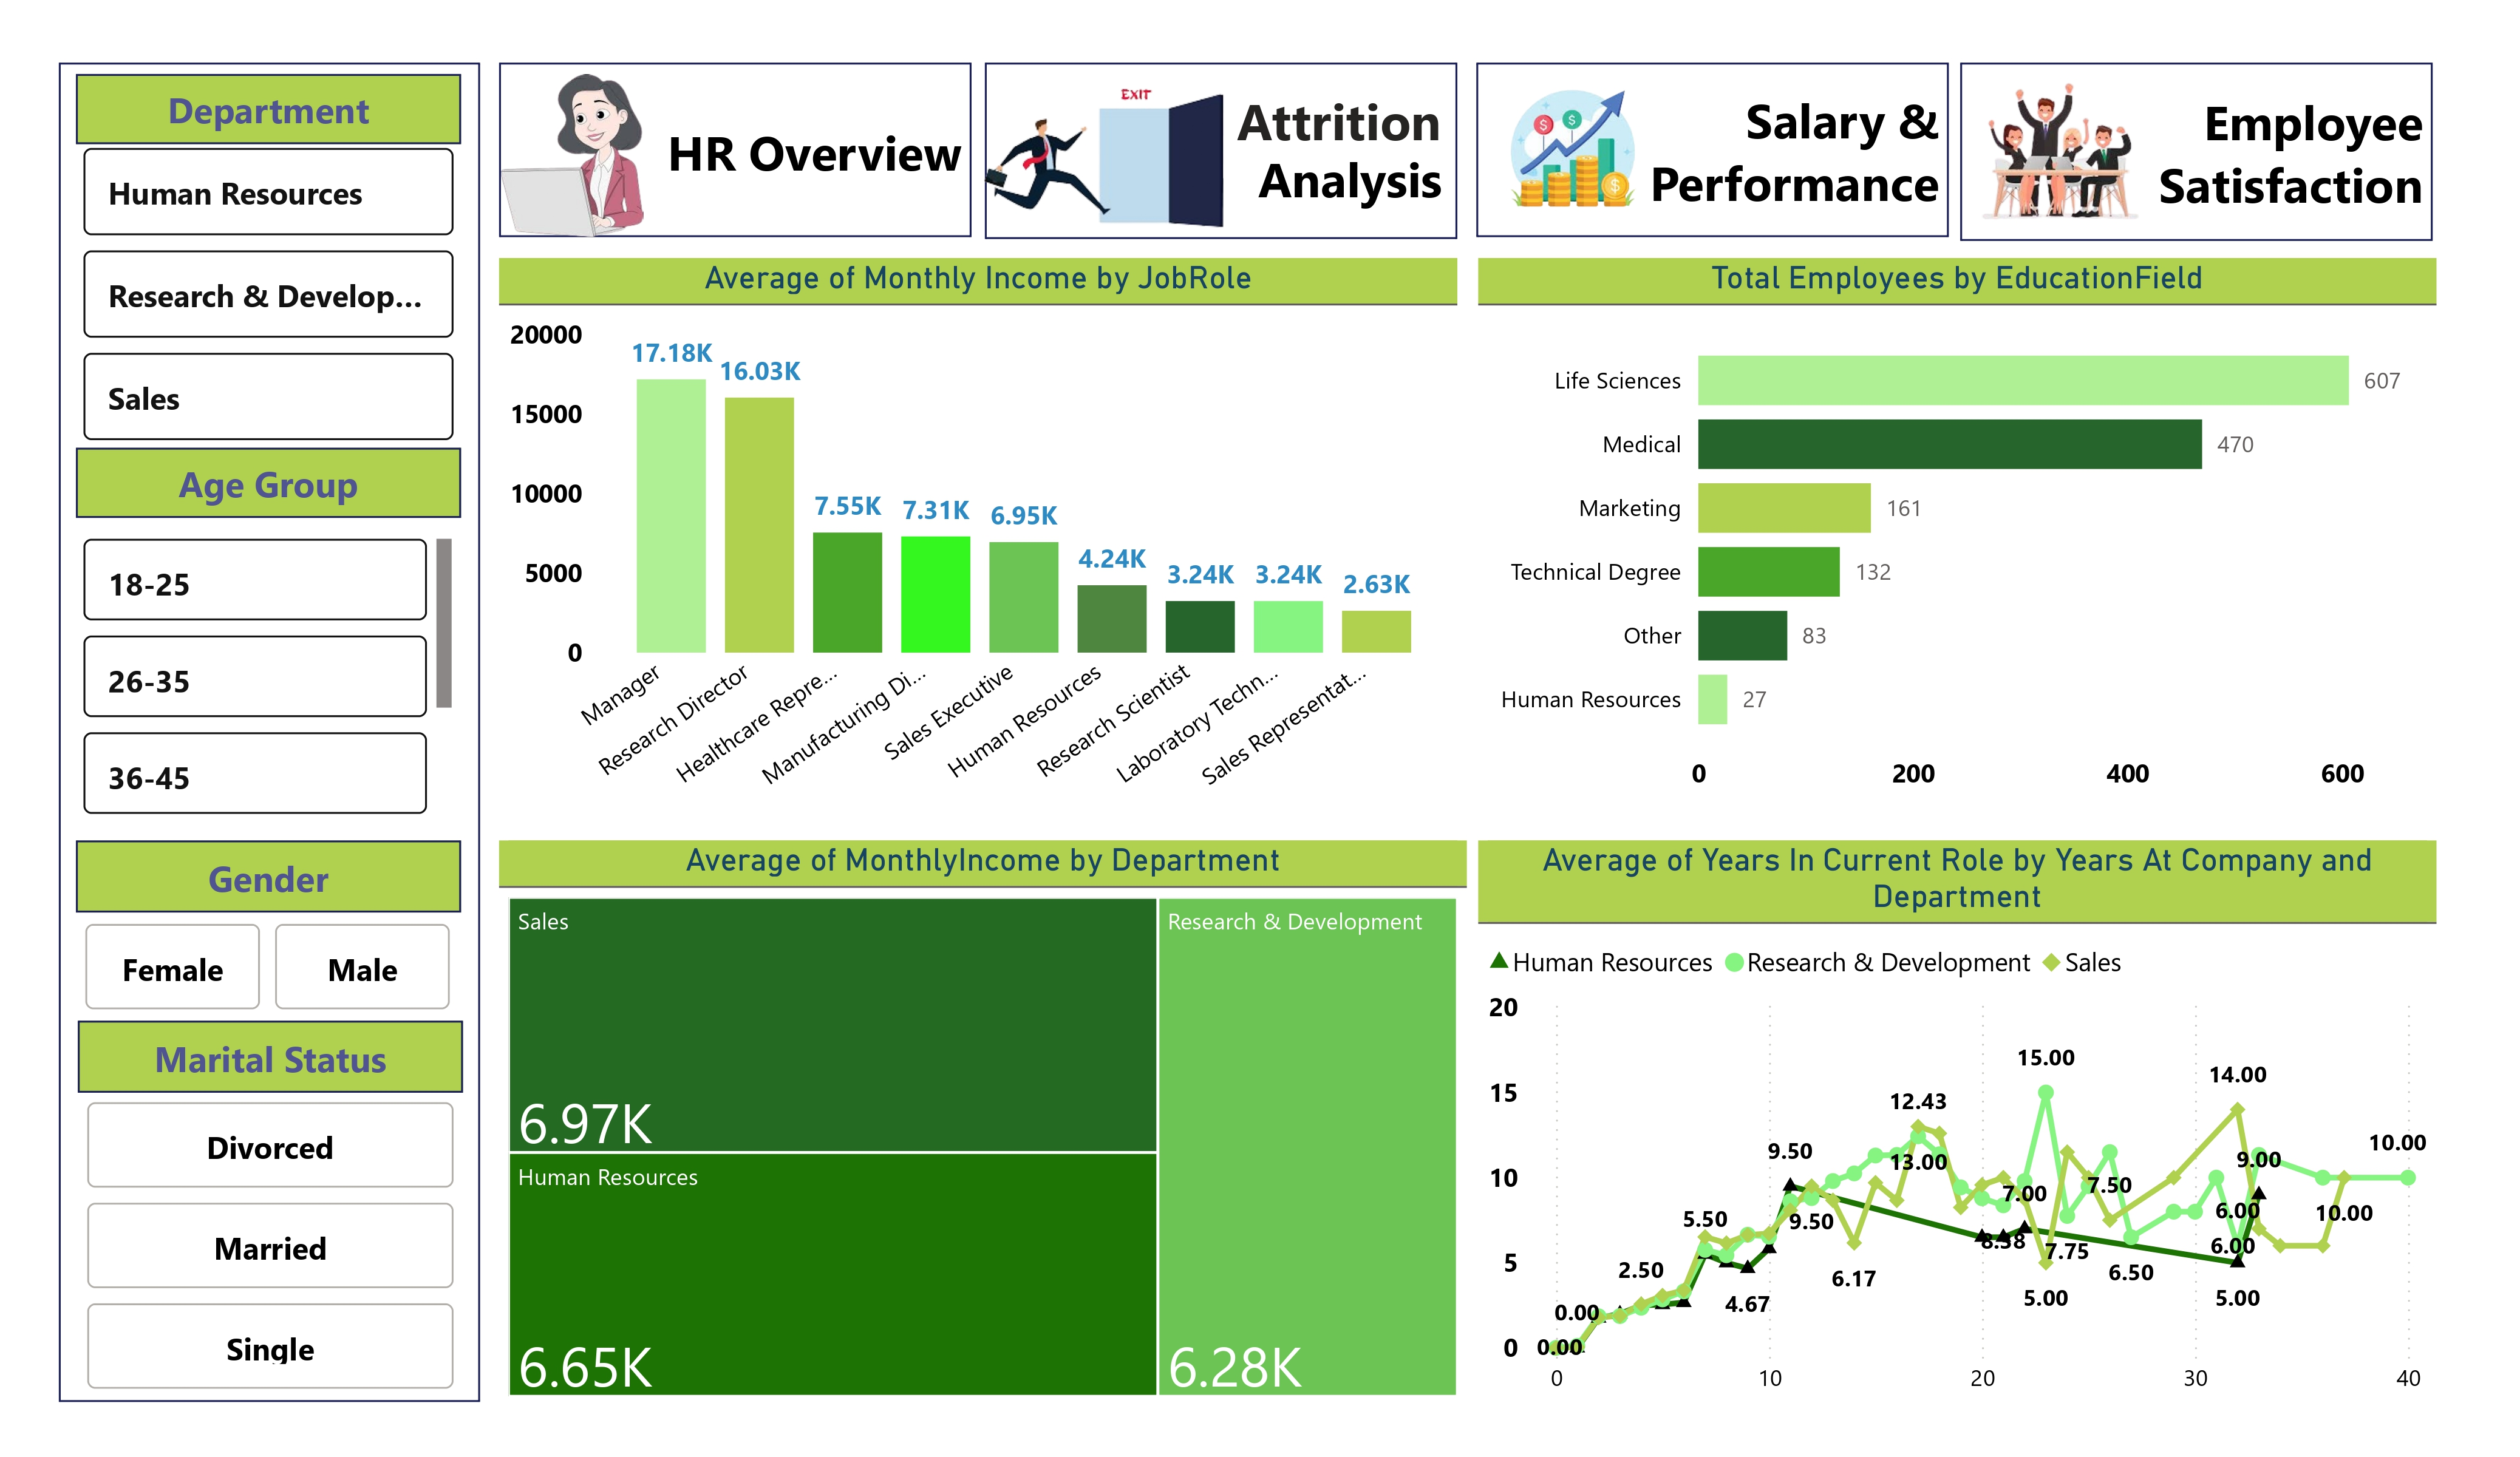

The page's visual inventory and layout, read from the dashboard file:
{"tool":"powerbi","page":{"name":"Salary & Performance","canvas":[1280,720],"ordinal":2},"visuals":[{"type":"shape","box":[7.2,8.6,221.8,705.6],"z":0,"group":"g4"},{"type":"lineStackedColumnComboChart","title":"Average of Monthly Income by JobRole","fields":{"Y":["Avg(HR_Analytics.MonthlyIncome)"],"Category":["HR_Analytics.JobRole"]},"box":[239,112.3,505.4,289.4],"z":0},{"type":"shape","box":[239,8.6,249.1,92.2],"z":1000,"group":"g3"},{"type":"treemap","fields":{"Group":["HR_Analytics.Department"],"Values":["Avg(HR_Analytics.MonthlyIncome)"]},"box":[239,419,510,297],"z":1000},{"type":"shape","box":[754.1,8.6,249.1,92.2],"z":2000,"group":"g5"},{"type":"clusteredBarChart","title":"Total Employees by EducationField","fields":{"Category":["HR_Analytics.EducationField"],"Y":["Sum(HR_Analytics.EmployeeCount)"]},"box":[754.6,112,505.4,289.4],"z":2000},{"type":"shape","box":[1009.1,8.6,249.1,93.6],"z":3000,"group":"g2"},{"type":"lineChart","title":"Average of Years In Current Role by Years At Company and Department","fields":{"Category":["HR_Analytics.YearsAtCompany"],"Y":["Avg(HR_Analytics.YearsInCurrentRole)"],"Series":["HR_Analytics.Department"]},"box":[754.6,419,505.4,301],"z":3000},{"type":"group","id":"g1","title":"Group 4","box":[476.2,2.8,286.3,112],"z":4000},{"type":"shape","box":[494.9,8.6,249.1,93.6],"z":4000,"group":"g1"},{"type":"group","id":"g2","title":"Group 6","box":[997.5,8.6,260.6,93.6],"z":5000},{"type":"group","id":"g3","title":"Group 8","box":[208.8,8.6,279.4,92.2],"z":7000},{"type":"group","id":"g4","title":"Group 9","box":[7.2,8.6,221.8,705.6],"z":8000},{"type":"advancedSlicerVisual","fields":{"Values":["HR_Analytics.Department"]},"box":[15.8,48.9,203,162.7],"z":8000,"group":"g4"},{"type":"shape","box":[15.8,14.4,203,37],"z":9000,"group":"g4"},{"type":"advancedSlicerVisual","fields":{"Values":["HR_Analytics.AgeGroup"]},"box":[15.7,254.2,202.9,154.3],"z":10000,"group":"g4"},{"type":"shape","box":[15.8,211.6,203,37.4],"z":11000,"group":"g4"},{"type":"advancedSlicerVisual","fields":{"Values":["HR_Analytics.Gender"]},"box":[15.8,457.9,203,54.7],"z":12000,"group":"g4"},{"type":"shape","box":[15.8,419,203,37.4],"z":13000,"group":"g4"},{"type":"advancedSlicerVisual","fields":{"Values":["HR_Analytics.MaritalStatus"]},"box":[17.1,551.4,202.9,162.9],"z":14000,"group":"g4"},{"type":"shape","box":[17.3,514,203,37.4],"z":15000,"group":"g4"},{"type":"image","box":[208.8,14.4,136.8,86.4],"z":17000,"group":"g3"},{"type":"image","box":[728.2,12.9,154.1,83.5],"z":22000,"group":"g5"},{"type":"group","id":"g5","title":"Group 1","box":[728.2,8.6,275,92.2],"z":22001},{"type":"image","box":[997.5,9.1,129.6,92.2],"z":23000,"group":"g2"},{"type":"image","box":[476.2,2.8,164.2,112.3],"z":24000,"group":"g1"},{"type":"textbox","box":[623.1,15.8,139.7,57.6],"z":25000,"group":"g1"}]}

Visuals, with their boxes on the page's 1280x720 design canvas (x1, y1, x2, y2). These are canvas units, not pixel positions in the 2520x1457 screenshot, which may show the page scaled, cropped or inside an application window:
shape: 7/9/229/714
"Average of Monthly Income by JobRole" lineStackedColumnComboChart: 239/112/744/402
shape: 239/9/488/101
treemap - HR_Analytics.Department x Avg(HR_Analytics.MonthlyIncome): 239/419/749/716
shape: 754/9/1003/101
"Total Employees by EducationField" clusteredBarChart: 755/112/1260/401
shape: 1009/9/1258/102
"Average of Years In Current Role by Years At Company and Department" lineChart: 755/419/1260/720
"Group 4" group: 476/3/762/115
shape: 495/9/744/102
"Group 6" group: 998/9/1258/102
"Group 8" group: 209/9/488/101
"Group 9" group: 7/9/229/714
advancedSlicerVisual - HR_Analytics.Department: 16/49/219/212
shape: 16/14/219/51
advancedSlicerVisual - HR_Analytics.AgeGroup: 16/254/219/408
shape: 16/212/219/249
advancedSlicerVisual - HR_Analytics.Gender: 16/458/219/513
shape: 16/419/219/456
advancedSlicerVisual - HR_Analytics.MaritalStatus: 17/551/220/714
shape: 17/514/220/551
image: 209/14/346/101
image: 728/13/882/96
"Group 1" group: 728/9/1003/101
image: 998/9/1127/101
image: 476/3/640/115
textbox: 623/16/763/73
